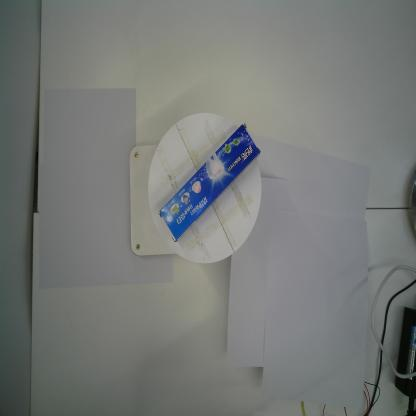Personal Hygiene: (159, 123, 260, 241)
